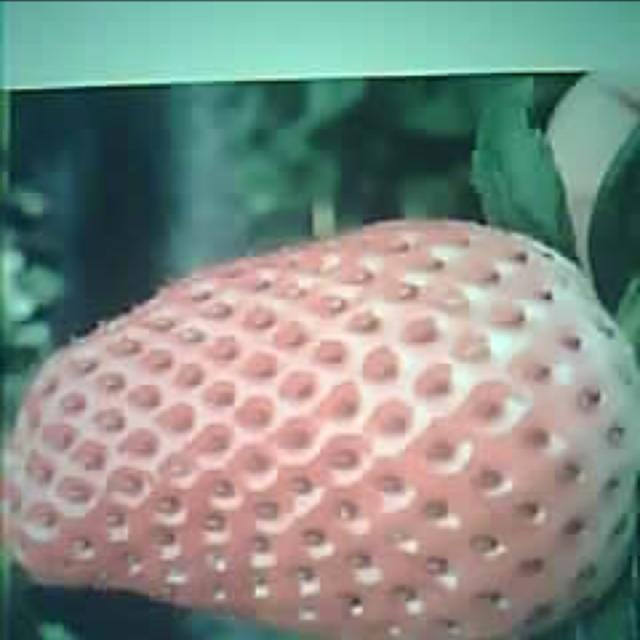strawberry: (3, 218, 640, 632)
